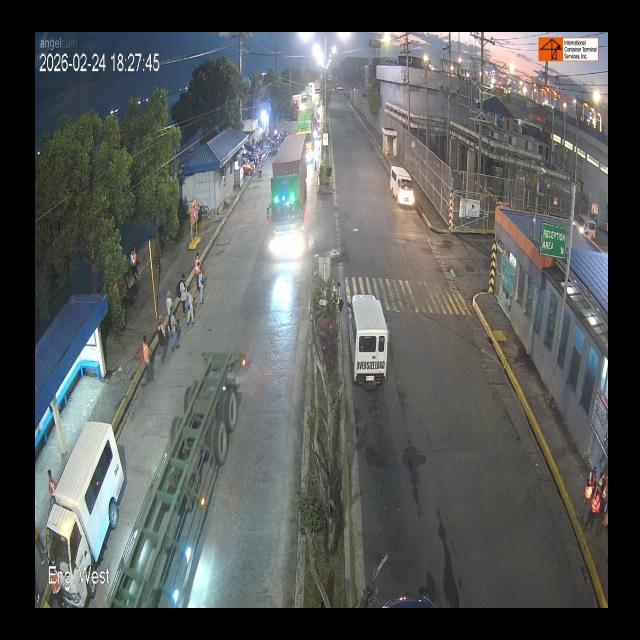car: (49, 434, 122, 558), (352, 284, 387, 401), (387, 158, 413, 215)
truck: (96, 344, 254, 603), (264, 129, 316, 266)
